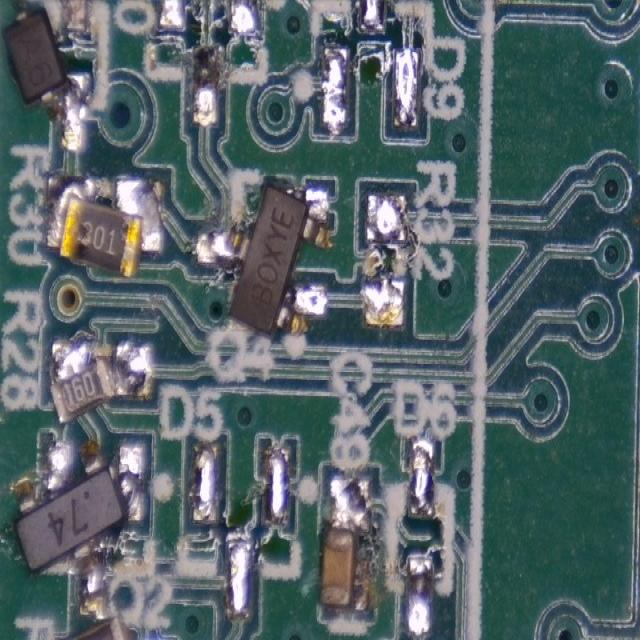Incorrect_installation: (12, 439, 144, 617), (198, 183, 330, 339), (1, 0, 86, 150), (46, 175, 160, 280), (50, 337, 150, 424), (318, 476, 371, 611)
